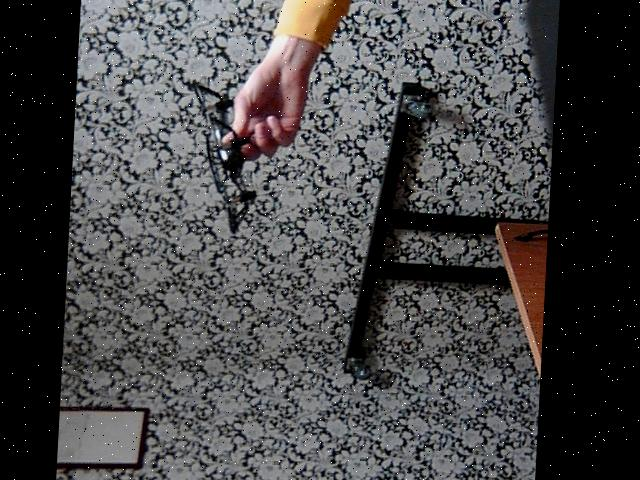drone: (168, 66, 263, 250)
